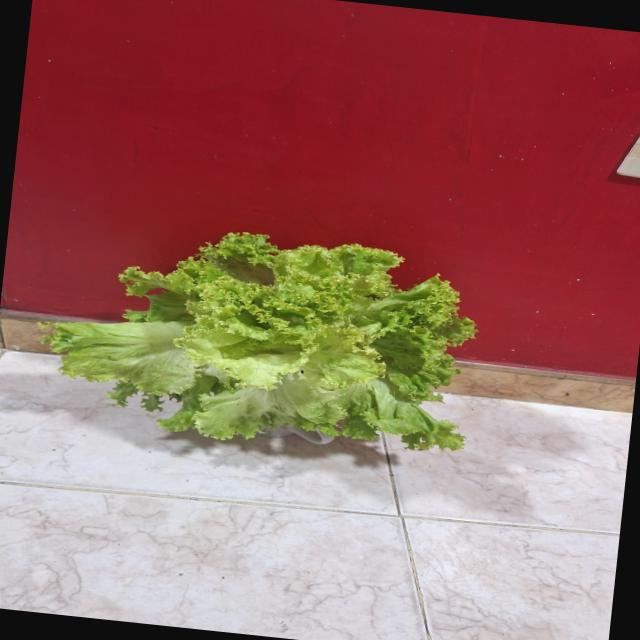lista_para_cosechar: (42, 232, 475, 450)
